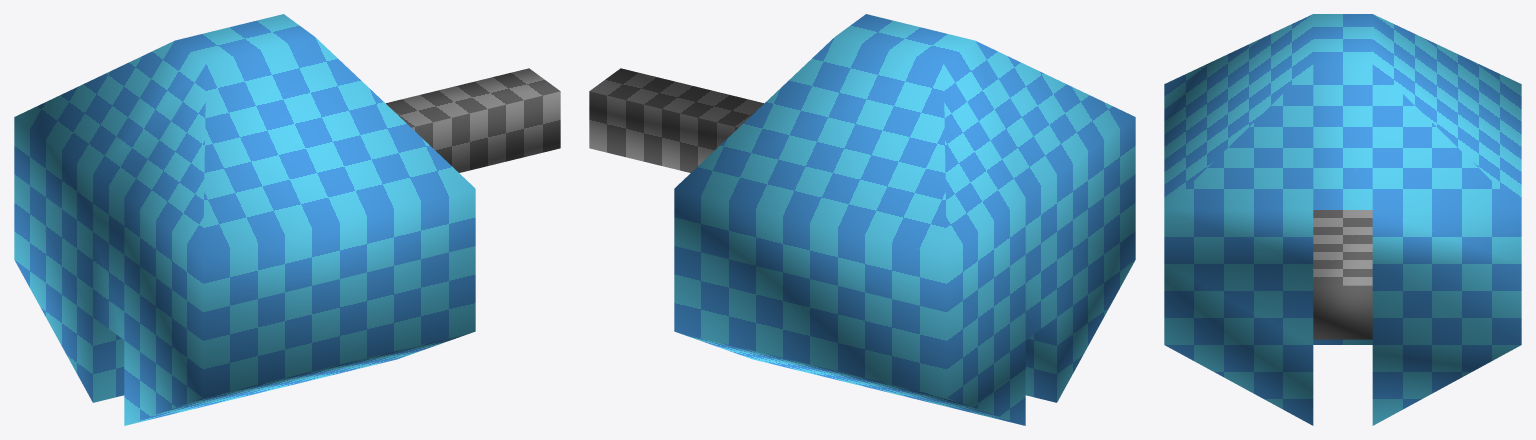
File: turret.fbx
The picture shows the model from 3 angles, left to right: view 1: azimuth 30°, elevation 25°; view 2: azimuth 150°, elevation 25°; view 3: azimuth 270°, elevation 25°; orthographic projection. The views are drawn at different scales.
Visible parts, largest first — view 1: Cube; view 2: Cube; view 3: Cube.
Part boxes in pixels (box(x1,y1,x2,y2)): Cube: box(14, 14, 560, 425); Cube: box(589, 14, 1135, 425); Cube: box(1164, 14, 1521, 425).
Size of the model in its own units: 1 by 0.75 by 0.75.
